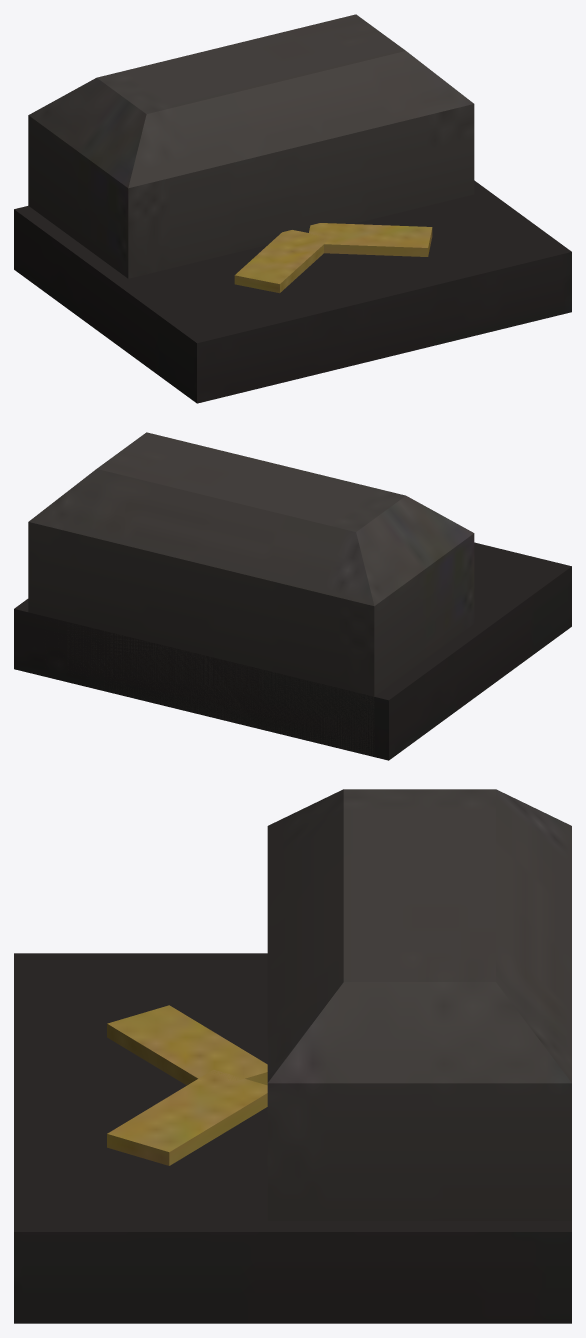
Rendered from underground-belt.glb.
3 renders of one model, top to bottom at view 1: azimuth 30°, elevation 25°; view 2: azimuth 150°, elevation 25°; view 3: azimuth 270°, elevation 25°, orthographic. The views are drawn at different scales.
Parts seen in each view (by area): view 1: underground-belt; view 2: underground-belt; view 3: underground-belt.
Part boxes in pixels (x1,y1,x2,y2): underground-belt: [14, 14, 571, 403]; underground-belt: [14, 432, 571, 760]; underground-belt: [14, 789, 571, 1323].
Bounding box in the file's own units: 0.26 × 0.13 × 0.22.
1 material, 1 textured.
